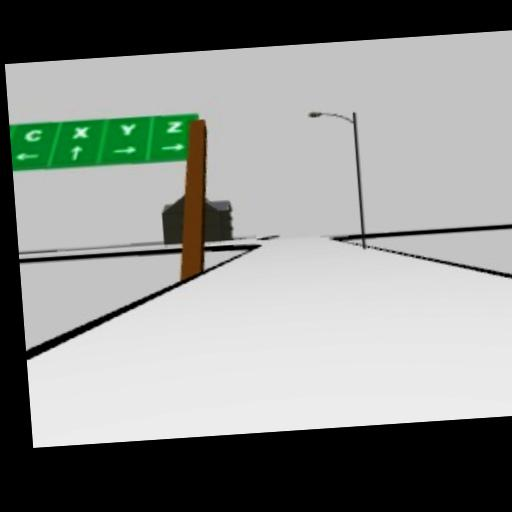C: (24, 127, 43, 142)
Left: (15, 151, 38, 161)
Right: (112, 145, 137, 154), (161, 143, 184, 152)
Straight: (68, 143, 83, 161)
X: (70, 124, 89, 138)
Y: (118, 123, 136, 136)
Z: (165, 120, 183, 134)
